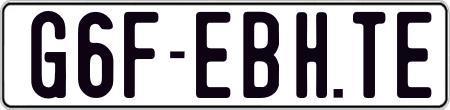6: (76, 10, 117, 96)
B: (240, 12, 282, 100)
E: (195, 12, 234, 100), (395, 9, 433, 95)
F: (121, 12, 159, 103)
G: (31, 10, 72, 99)
H: (295, 9, 328, 95)
T: (352, 12, 389, 100)
